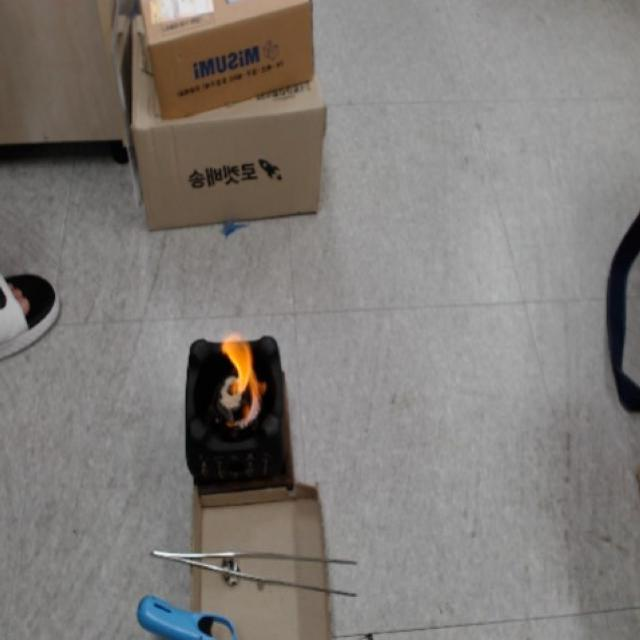Fire: (209, 332, 272, 414)
